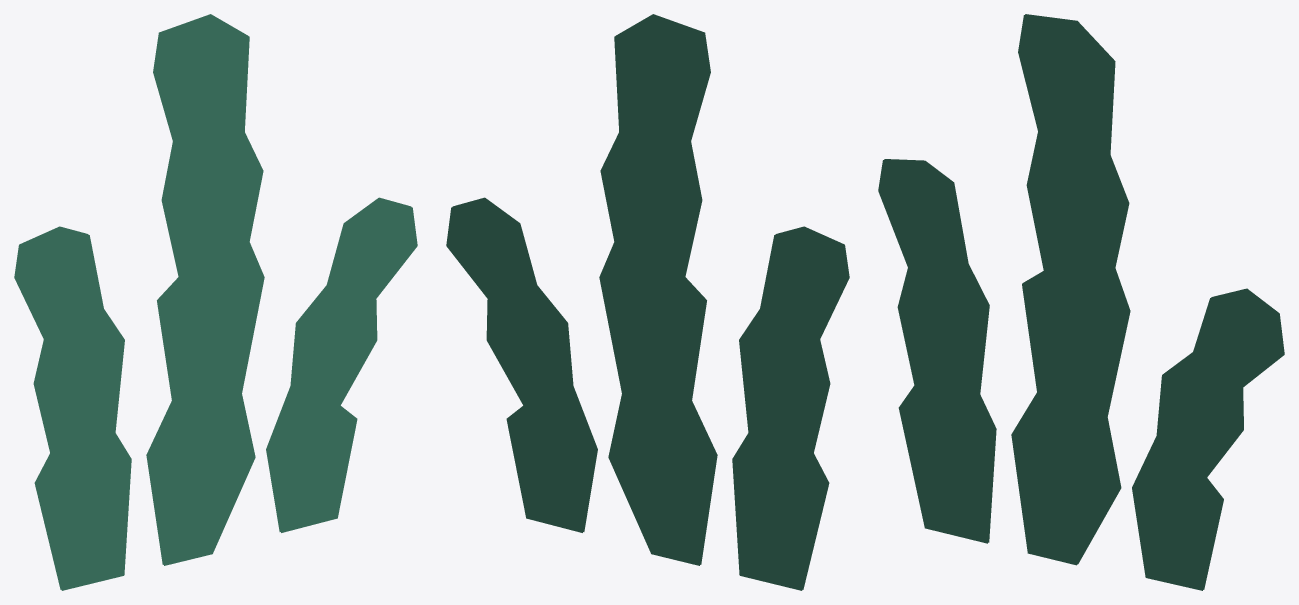
File: Algae4_tex.fbx
The picture shows the model from 3 angles, left to right: view 1: azimuth 30°, elevation 25°; view 2: azimuth 150°, elevation 25°; view 3: azimuth 330°, elevation 25°; orthographic projection.
Parts seen in each view (by area): view 1: Algae4_tex; view 2: Algae4_tex; view 3: Algae4_tex.
Boxes of the visible parts, <box> form: Algae4_tex: <box>14,14,417,590</box>; Algae4_tex: <box>446,14,849,590</box>; Algae4_tex: <box>878,14,1284,590</box>.
Size of the model in its own units: 0.5081 by 0.6511 by 0.00295.
